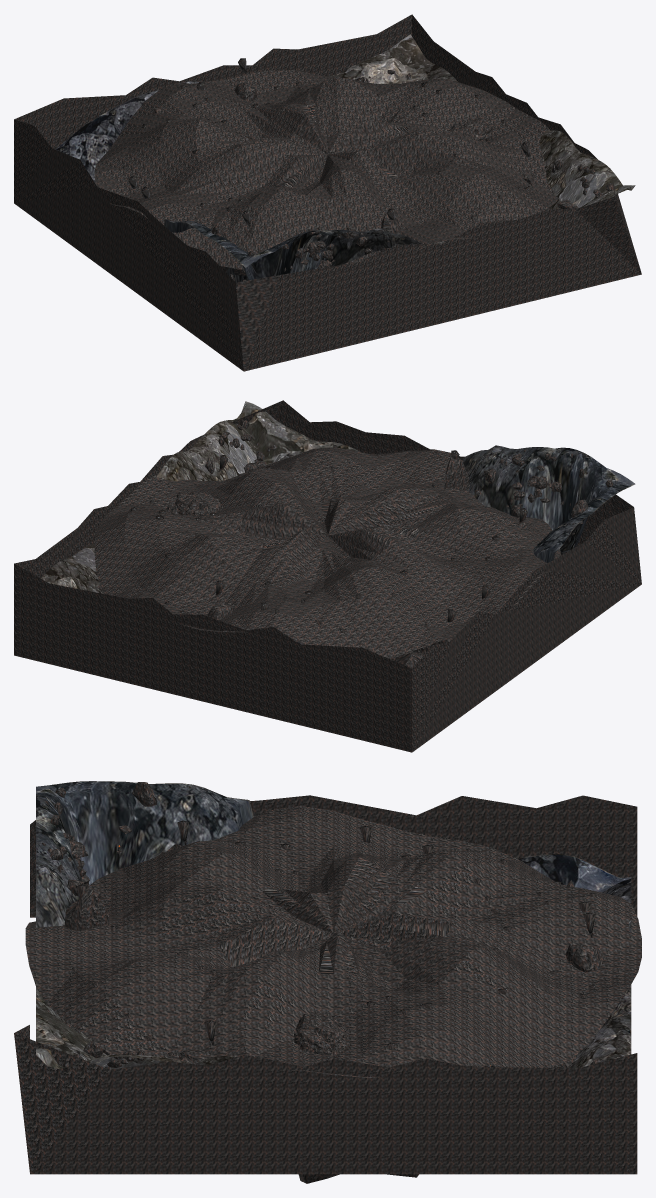
Rendered from world010_LOD1.fbx.
3 renders of one model, top to bottom at view 1: azimuth 30°, elevation 25°; view 2: azimuth 150°, elevation 25°; view 3: azimuth 270°, elevation 25°, orthographic. The views are drawn at different scales.
Parts seen in each view (by area): view 1: LODMesh_0010, LODMesh_0216, LODMesh_0330, LODMesh_0295, LODMesh_0326, LODMesh_0325, LODMesh_0301, LODMesh_0306, LODMesh_0300, LODMesh_0251, LODMesh_0307, LODMesh_0057; view 2: LODMesh_0216, LODMesh_0010, LODMesh_0301, LODMesh_0295, LODMesh_0325, LODMesh_0326, LODMesh_0307, LODMesh_0251, LODMesh_0329, LODMesh_0057, LODMesh_0296, LODMesh_0330 (+2 smaller); view 3: LODMesh_0216, LODMesh_0010, LODMesh_0295, LODMesh_0296, LODMesh_0300, LODMesh_0301, LODMesh_0307, LODMesh_0324, LODMesh_0057, LODMesh_0319, LODMesh_0211, LODMesh_0325 (+2 smaller).
Part boxes in pixels (x1,y1,x2,y2): LODMesh_0010: [14, 14, 641, 371]; LODMesh_0216: [94, 70, 558, 269]; LODMesh_0330: [344, 34, 448, 84]; LODMesh_0295: [207, 231, 310, 280]; LODMesh_0326: [542, 131, 597, 209]; LODMesh_0325: [557, 159, 635, 209]; LODMesh_0301: [296, 229, 377, 272]; LODMesh_0306: [86, 91, 152, 155]; LODMesh_0300: [55, 124, 102, 183]; LODMesh_0251: [295, 227, 368, 268]; LODMesh_0307: [357, 228, 421, 257]; LODMesh_0057: [448, 118, 495, 142]; LODMesh_0216: [94, 447, 561, 658]; LODMesh_0010: [14, 400, 641, 752]; LODMesh_0301: [483, 447, 569, 526]; LODMesh_0295: [550, 448, 635, 553]; LODMesh_0325: [207, 401, 311, 472]; LODMesh_0326: [169, 431, 243, 481]; LODMesh_0307: [460, 445, 502, 504]; LODMesh_0251: [483, 453, 562, 517]; LODMesh_0329: [58, 543, 103, 593]; LODMesh_0057: [172, 490, 224, 515]; LODMesh_0296: [533, 506, 597, 555]; LODMesh_0330: [40, 562, 88, 590]; LODMesh_0216: [25, 805, 641, 1078]; LODMesh_0010: [14, 795, 637, 1174]; LODMesh_0295: [36, 781, 138, 885]; LODMesh_0296: [137, 783, 238, 863]; LODMesh_0300: [530, 854, 631, 892]; LODMesh_0301: [36, 803, 84, 897]; LODMesh_0307: [36, 865, 78, 927]; LODMesh_0324: [570, 1012, 631, 1067]; LODMesh_0057: [293, 1011, 348, 1054]; LODMesh_0319: [36, 1007, 106, 1058]; LODMesh_0211: [64, 889, 109, 930]; LODMesh_0325: [36, 1041, 138, 1069].
Bounding box in the file's own units: 31104 × 10235 × 31638.
